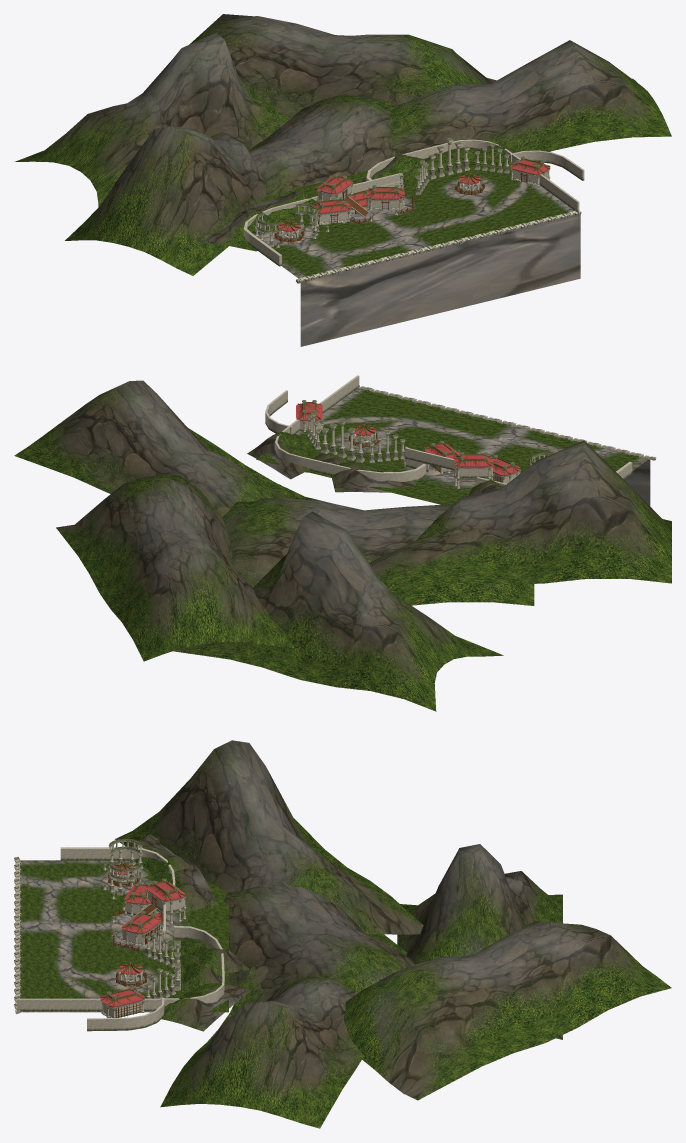
File: Stage.fbx
3 renders of one model, top to bottom at view 1: azimuth 30°, elevation 25°; view 2: azimuth 150°, elevation 25°; view 3: azimuth 270°, elevation 25°, orthographic. The views are drawn at different scales.
Parts seen in each view (by area): view 1: pCube454; view 2: pCube454; view 3: pCube454.
Part boxes in pixels (<box>): pCube454: <box>15,14,671,346</box>; pCube454: <box>14,375,671,711</box>; pCube454: <box>14,740,671,1128</box>.
Bounding box in the file's own units: 21336 × 5411 × 18310.
